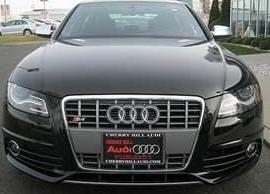front_view: (2, 78, 263, 184)
headlight: (4, 79, 51, 120)
